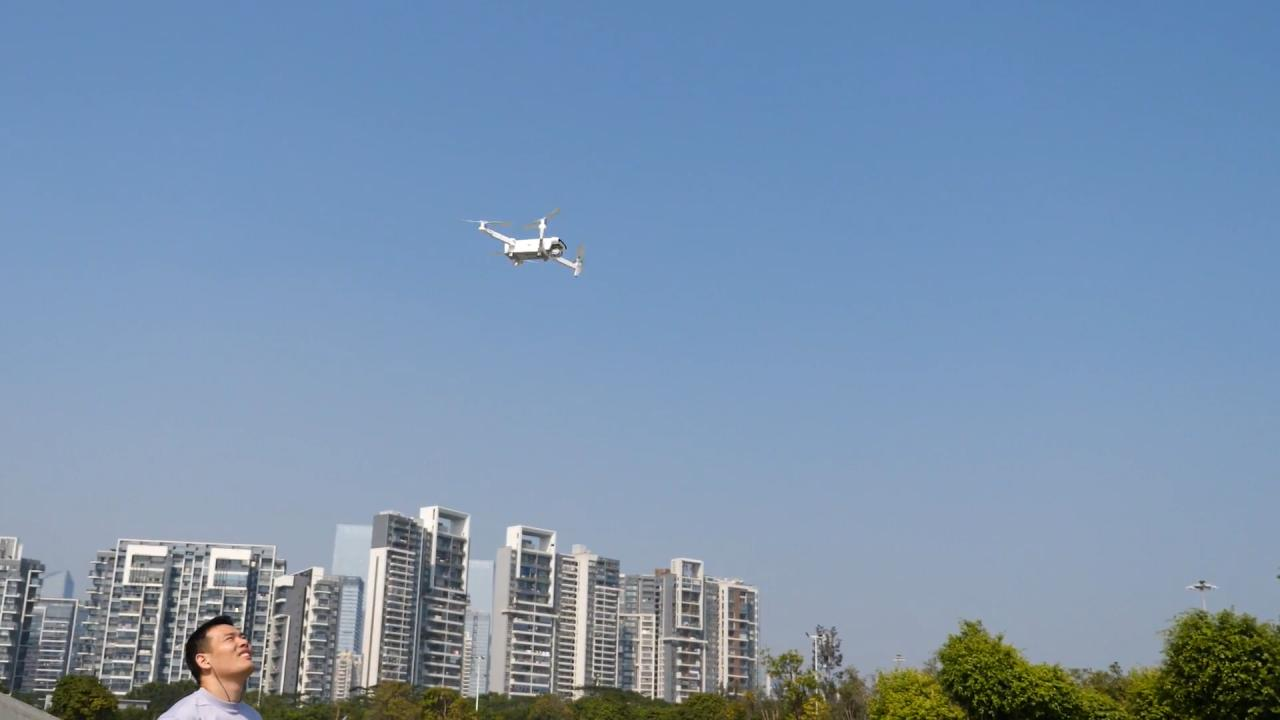Drone: (454, 197, 600, 291)
